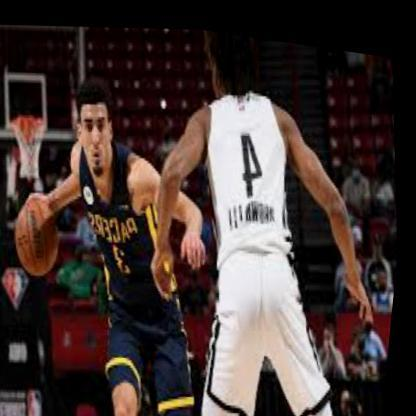basketball: (12, 191, 71, 281)
rim: (11, 107, 51, 138)
